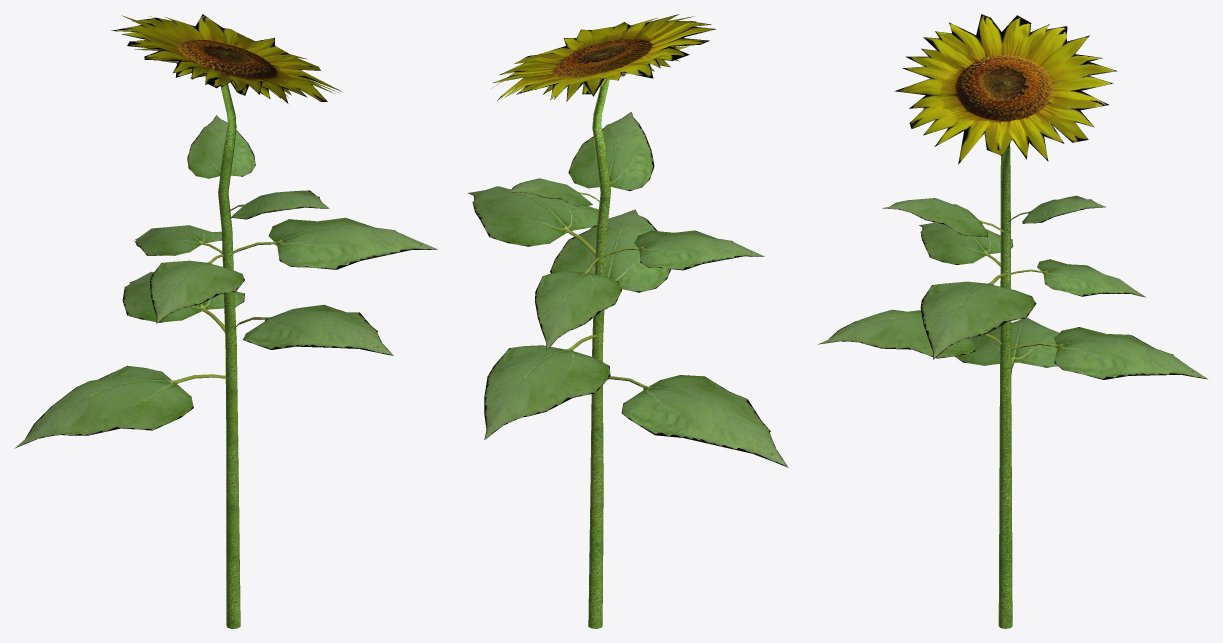
The model's file is sunflowers.glb.
3 renders of one model, left to right at view 1: azimuth 30°, elevation 25°; view 2: azimuth 150°, elevation 25°; view 3: azimuth 270°, elevation 25°, orthographic. The views are drawn at different scales.
Visible parts, largest first — view 1: Default; view 2: Default; view 3: Default.
Boxes of the visible parts, <box> form: Default: <box>14,14,437,628</box>; Default: <box>468,14,788,628</box>; Default: <box>818,14,1207,628</box>.
Bounding box in the file's own units: 138 × 212 × 133.
Materials: 1 (1 with a texture image).
